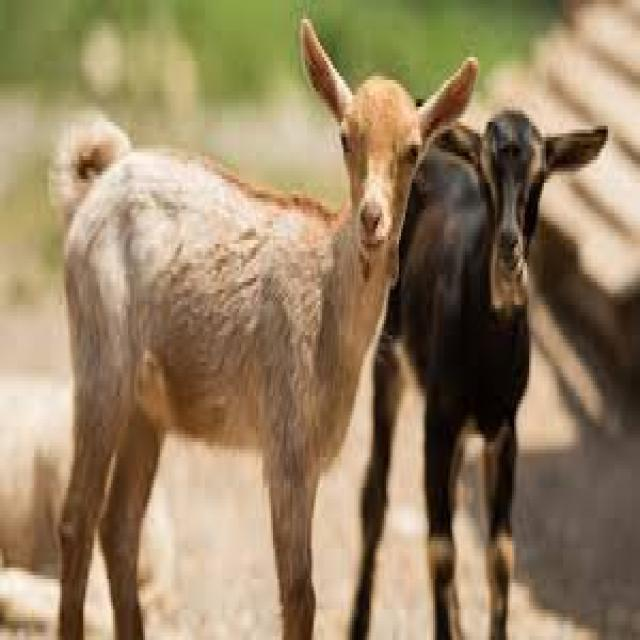Goat: (48, 21, 480, 637), (406, 91, 614, 640)
